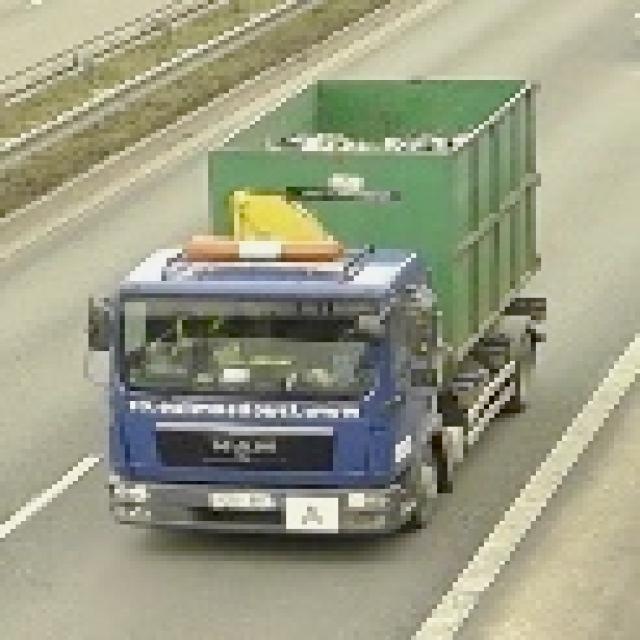truck: (79, 68, 547, 539)
